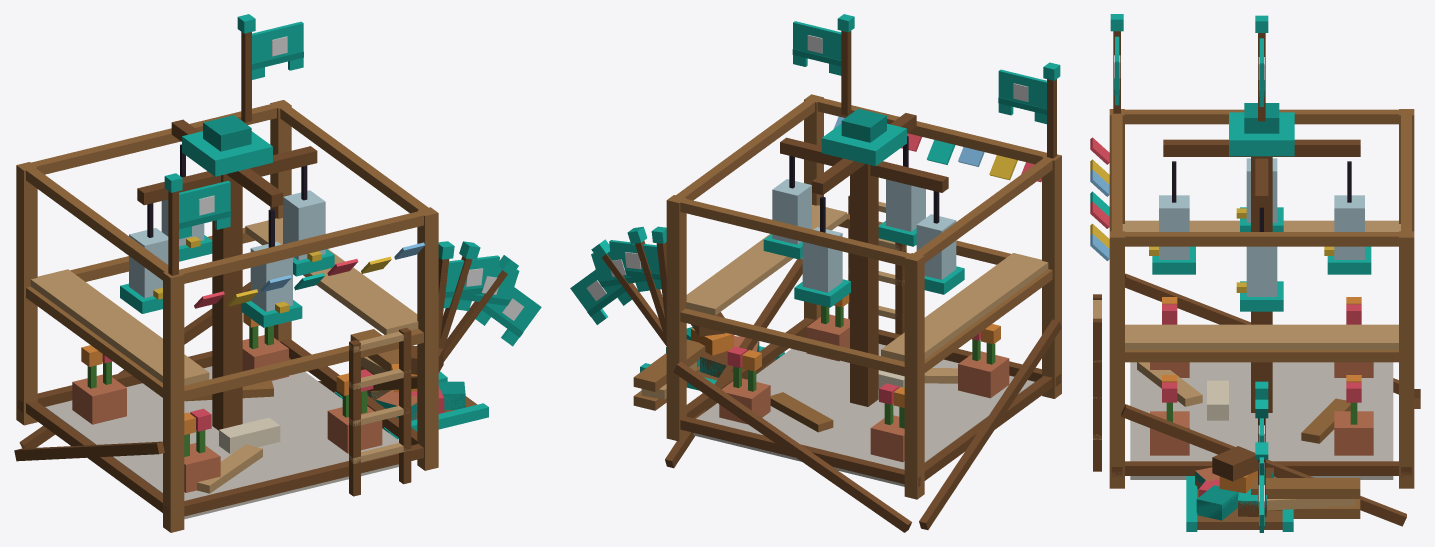
The model's file is hummingbird-producer.glb.
3 views of the same model, side by side, from view 1: azimuth 30°, elevation 25°; view 2: azimuth 150°, elevation 25°; view 3: azimuth 270°, elevation 25° (orthographic). The views are drawn at different scales.
Visible parts, largest first — view 1: scaffold-mesh, built-mesh, dismantle-75-mesh, dismantle-25-mesh, dismantle-50-mesh, scaffold-banner, banner, dismantle-25-banner, dismantle-75-banner, dismantle-50-banner, flag-pole, dismantle-25-flag-pole (+3 smaller); view 2: scaffold-mesh, built-mesh, dismantle-75-mesh, dismantle-25-mesh, dismantle-50-mesh, scaffold-banner, banner, dismantle-25-banner, dismantle-75-banner, flag-pole, dismantle-25-flag-pole, dismantle-50-banner (+3 smaller); view 3: scaffold-mesh, built-mesh, dismantle-75-mesh, dismantle-25-mesh, dismantle-50-mesh, flag-pole, scaffold-flag-pole, scaffold-banner, banner.
Boxes of the visible parts, left/top/right/bottom form: scaffold-mesh: left=14, top=100, right=438, bottom=532; built-mesh: left=45, top=115, right=382, bottom=493; dismantle-75-mesh: left=81, top=197, right=488, bottom=517; dismantle-25-mesh: left=87, top=345, right=474, bottom=519; dismantle-50-mesh: left=82, top=349, right=488, bottom=518; scaffold-banner: left=179, top=180, right=230, bottom=238; banner: left=252, top=21, right=303, bottom=79; dismantle-25-banner: left=475, top=287, right=541, bottom=346; dismantle-75-banner: left=444, top=255, right=499, bottom=308; dismantle-50-banner: left=456, top=264, right=519, bottom=315; flag-pole: left=237, top=14, right=255, bottom=122; dismantle-25-flag-pole: left=443, top=255, right=518, bottom=361; scaffold-mesh: left=633, top=94, right=1061, bottom=532; built-mesh: left=719, top=108, right=1034, bottom=462; dismantle-75-mesh: left=640, top=185, right=1000, bottom=486; dismantle-25-mesh: left=640, top=312, right=995, bottom=486; dismantle-50-mesh: left=640, top=288, right=1000, bottom=486; scaffold-banner: left=998, top=69, right=1046, bottom=124; banner: left=792, top=21, right=841, bottom=75; dismantle-25-banner: left=570, top=263, right=631, bottom=324; dismantle-75-banner: left=609, top=240, right=661, bottom=289; flag-pole: left=837, top=14, right=854, bottom=115; dismantle-25-flag-pole: left=591, top=239, right=666, bottom=345; dismantle-50-banner: left=591, top=249, right=649, bottom=296; scaffold-mesh: left=1090, top=109, right=1420, bottom=526; built-mesh: left=1149, top=103, right=1373, bottom=427; dismantle-75-mesh: left=1130, top=196, right=1393, bottom=529; dismantle-25-mesh: left=1130, top=362, right=1390, bottom=531; dismantle-50-mesh: left=1137, top=311, right=1373, bottom=531; flag-pole: left=1255, top=15, right=1268, bottom=121; scaffold-flag-pole: left=1110, top=14, right=1123, bottom=113; scaffold-banner: left=1114, top=36, right=1120, bottom=105; banner: left=1258, top=38, right=1264, bottom=106.
Bounding box in the file's own units: 2.35 × 2.27 × 1.51.
